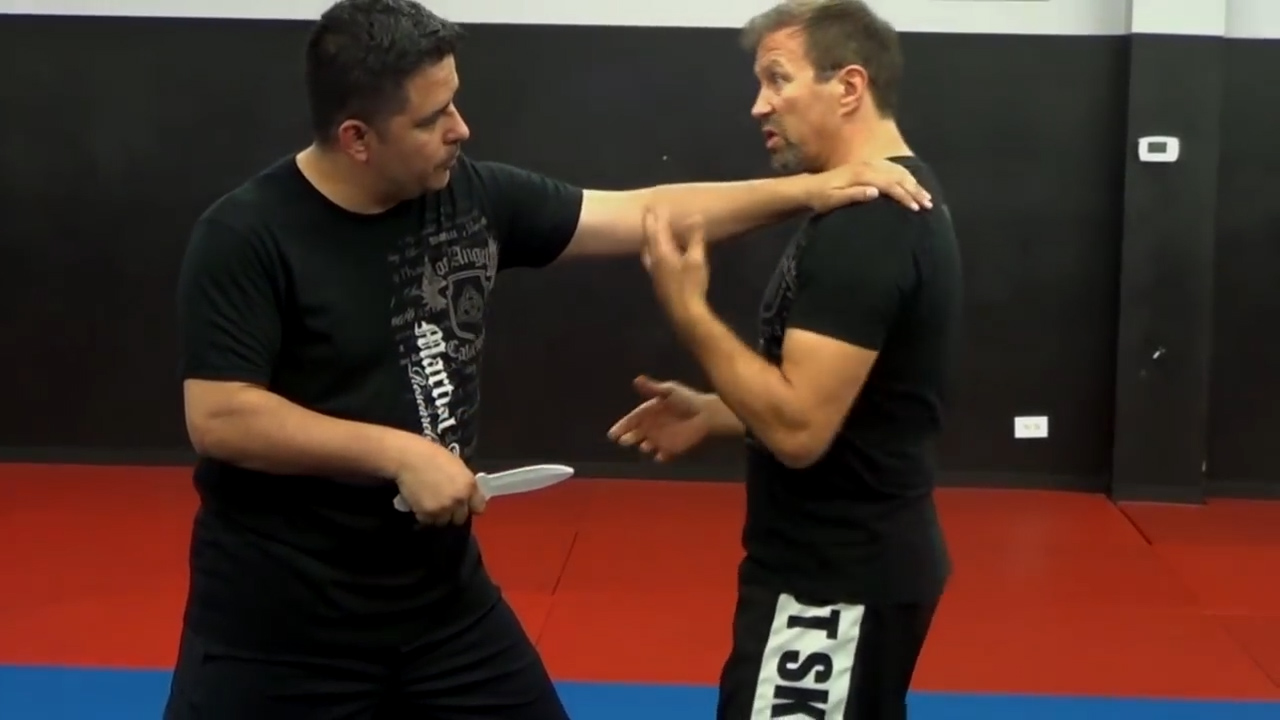knife: (390, 454, 580, 525)
